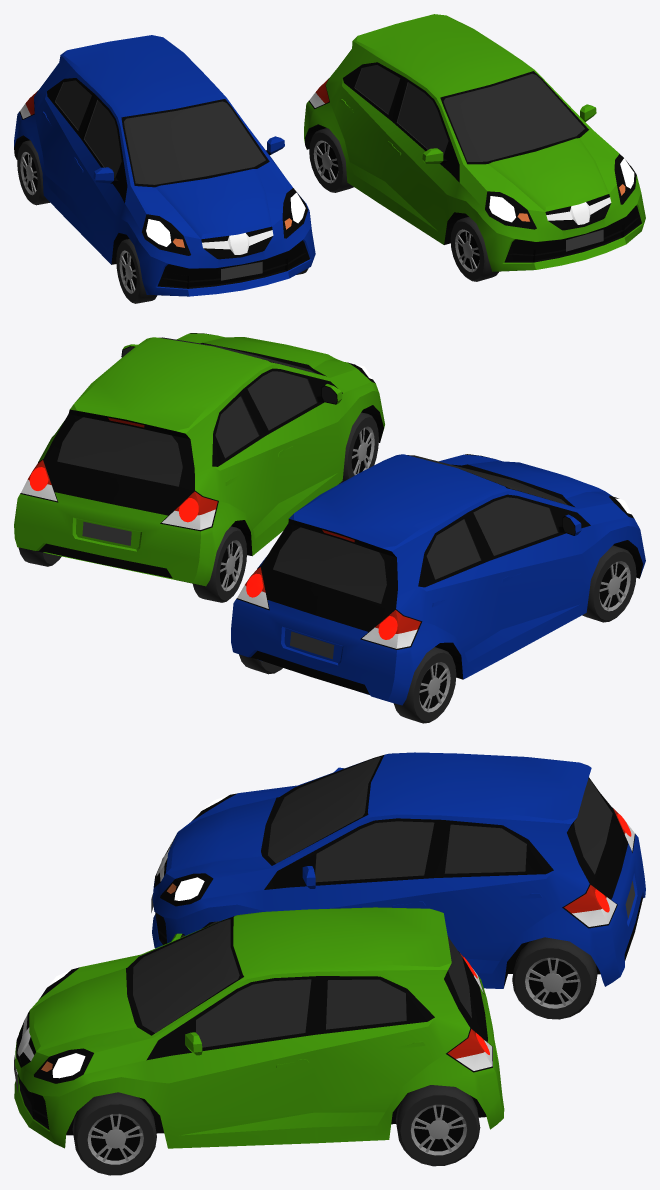
Rendered from hatch.glb.
3 views of the same model, one above another, from view 1: azimuth 30°, elevation 25°; view 2: azimuth 150°, elevation 25°; view 3: azimuth 270°, elevation 25° (orthographic). The views are drawn at different scales.
Visible parts, largest first — view 1: Cube.007, Cube.008, Cylinder.009, Cylinder.008, Cylinder.013, Cylinder.012; view 2: Cube.008, Cube.007, Cylinder.012, Cylinder.013, Cylinder.008, Cylinder.009; view 3: Cube.007, Cube.008, Cylinder.011, Cylinder.010, Cylinder.014.
Part boxes in pixels (<box>): Cube.007: <box>304,14,645,271</box>; Cube.008: <box>14,35,315,296</box>; Cylinder.009: <box>450,217,498,281</box>; Cylinder.008: <box>309,128,353,192</box>; Cylinder.013: <box>116,239,157,303</box>; Cylinder.012: <box>17,140,49,205</box>; Cube.008: <box>231,454,645,705</box>; Cube.007: <box>14,332,384,586</box>; Cylinder.012: <box>393,647,456,723</box>; Cylinder.013: <box>582,545,636,622</box>; Cylinder.008: <box>193,526,246,602</box>; Cylinder.009: <box>338,412,378,484</box>; Cube.007: <box>14,907,504,1148</box>; Cube.008: <box>151,752,645,988</box>; Cylinder.011: <box>72,1092,156,1175</box>; Cylinder.010: <box>395,1085,480,1166</box>; Cylinder.014: <box>512,937,597,1019</box>.
Bounding box in the file's own units: 4.69 × 1.44 × 4.5.
